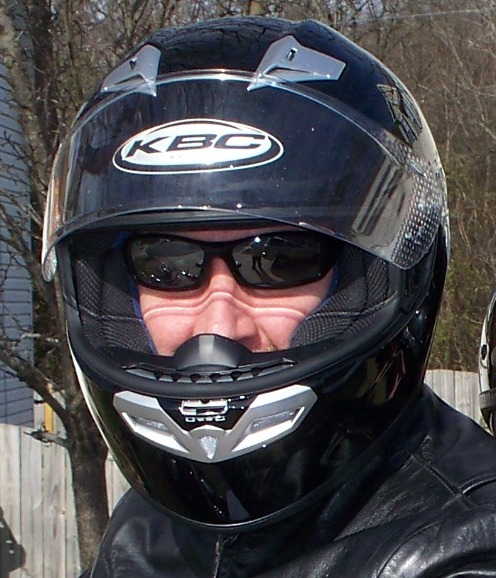helmet: (29, 9, 469, 552)
